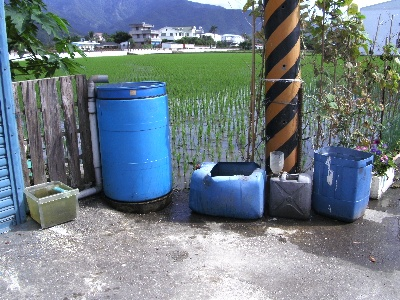bottle: (269, 150, 285, 174)
box: (24, 180, 80, 229)
bucket: (95, 81, 172, 202), (312, 147, 373, 222), (189, 144, 250, 219), (268, 172, 311, 221)
